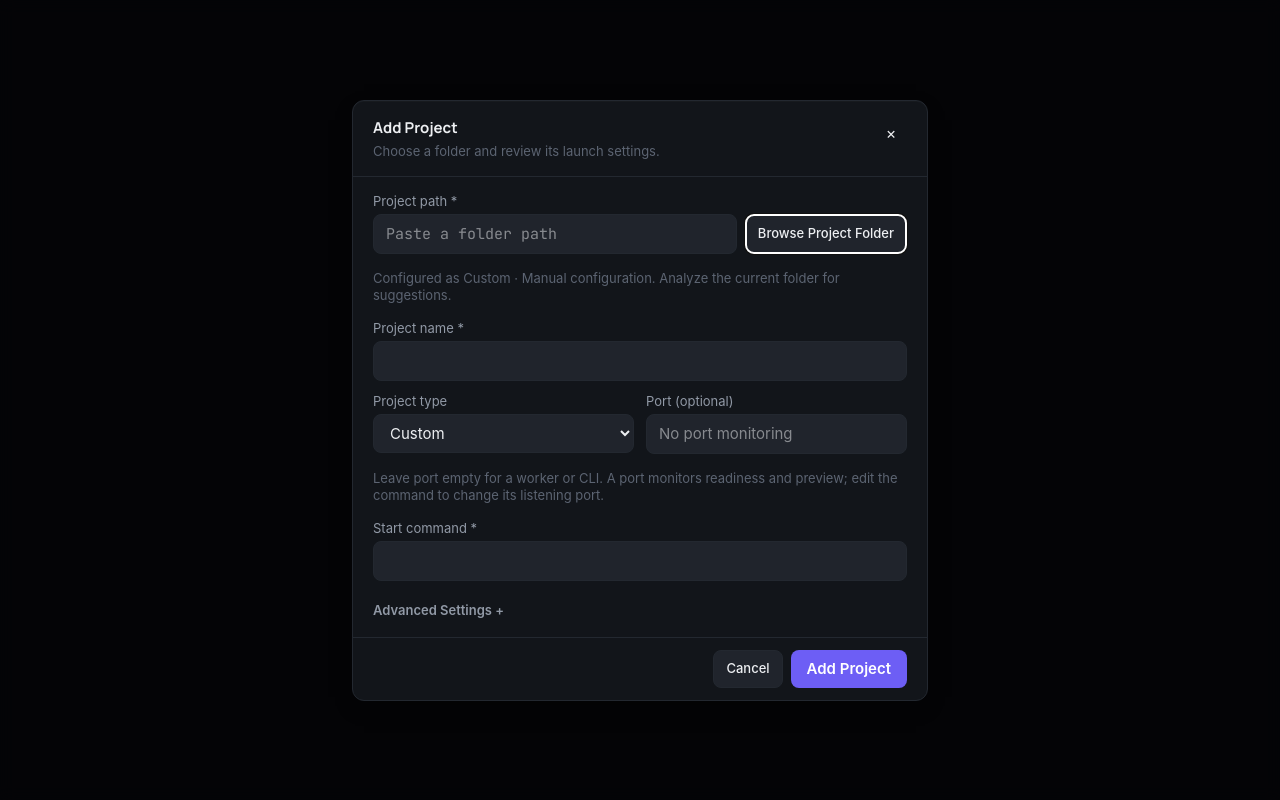
ProjectModal folder detection › Enter commits a tag as a chip and it is saved
The width and height of the screenshot is (1280, 800).
Later steps or results of the test are not shown.
Click the button "Browse Project Folder" at (826, 234), box [745,214,907,254]
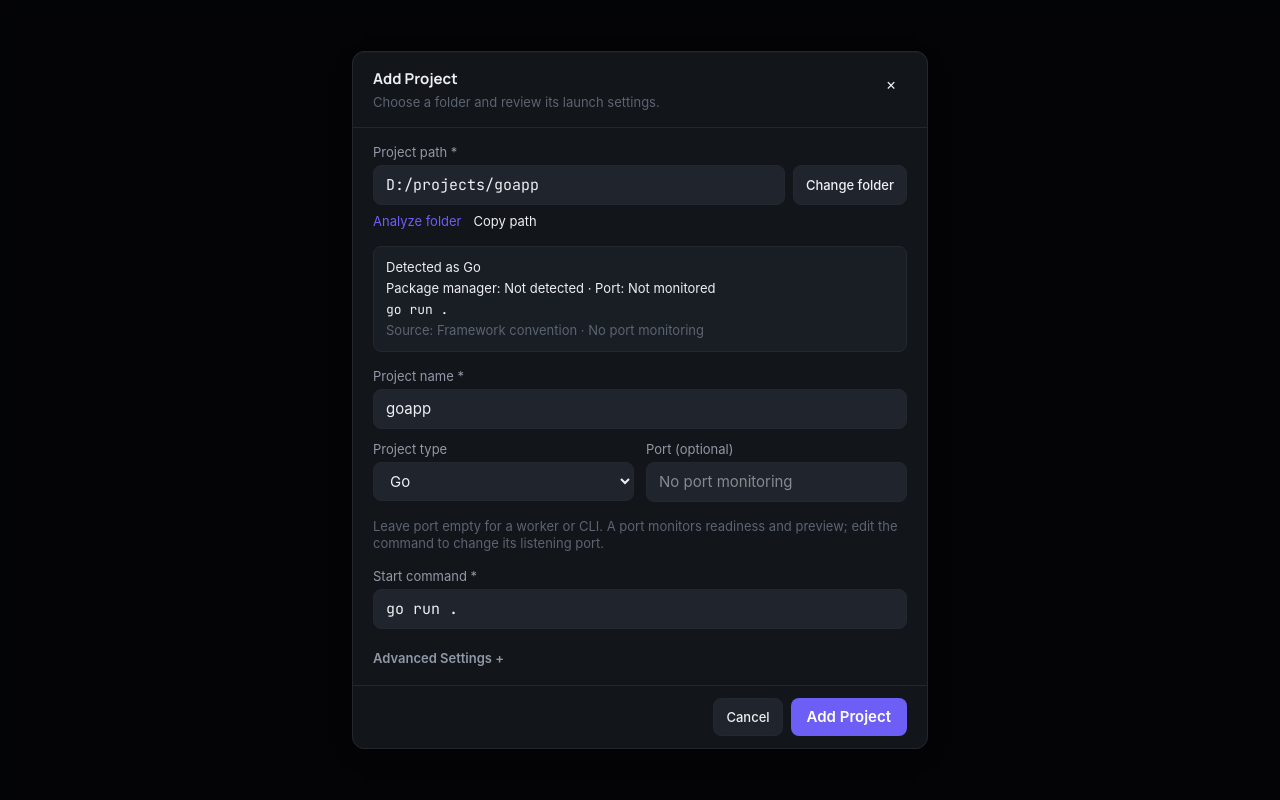
Expected: the text "Detected as Go" is shown, [386,259,481,275]
Click the button "Advanced Settings +" at (432, 658), box [373,650,907,667]
(page scrolled)
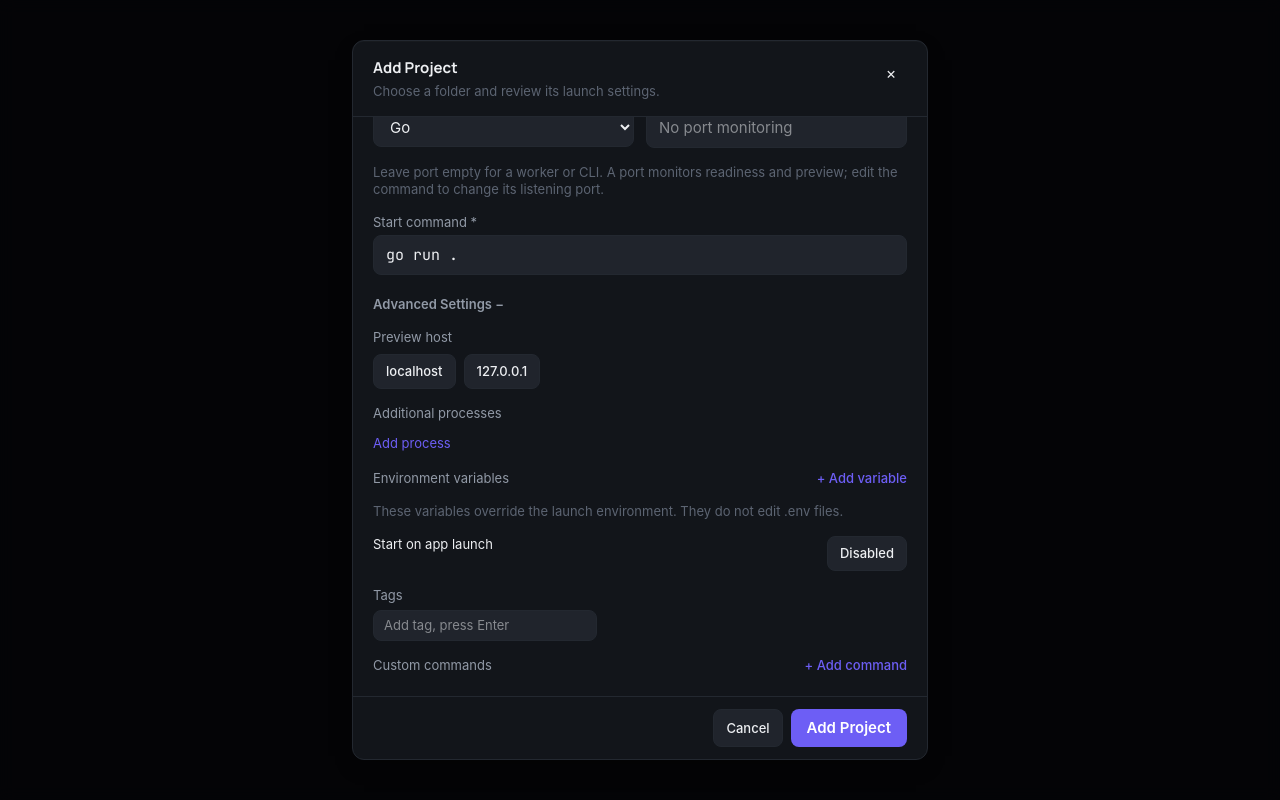
Type "api" into the field with placeholder "Add tag, press Enter" at (485, 626), box [373,610,597,641]
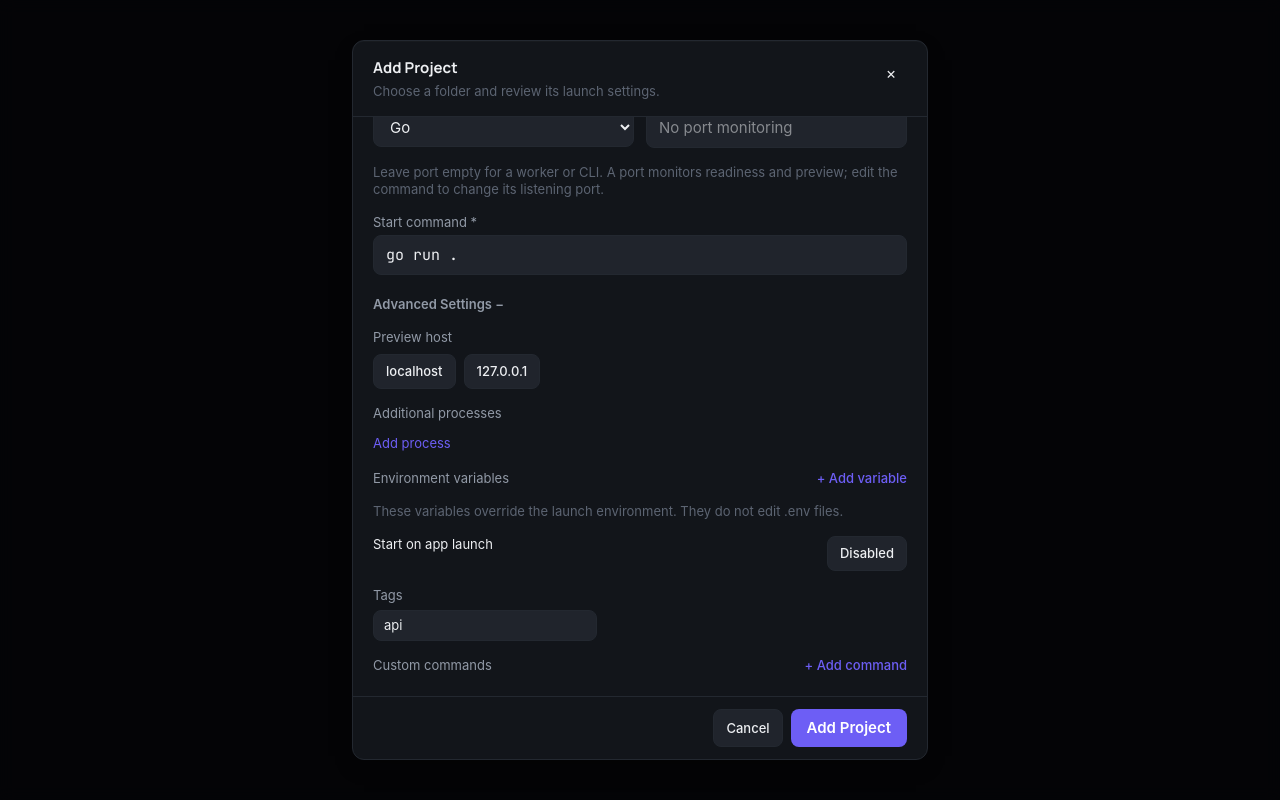
Press Enter in the field with placeholder "Add tag, press Enter", box [373,610,597,641]
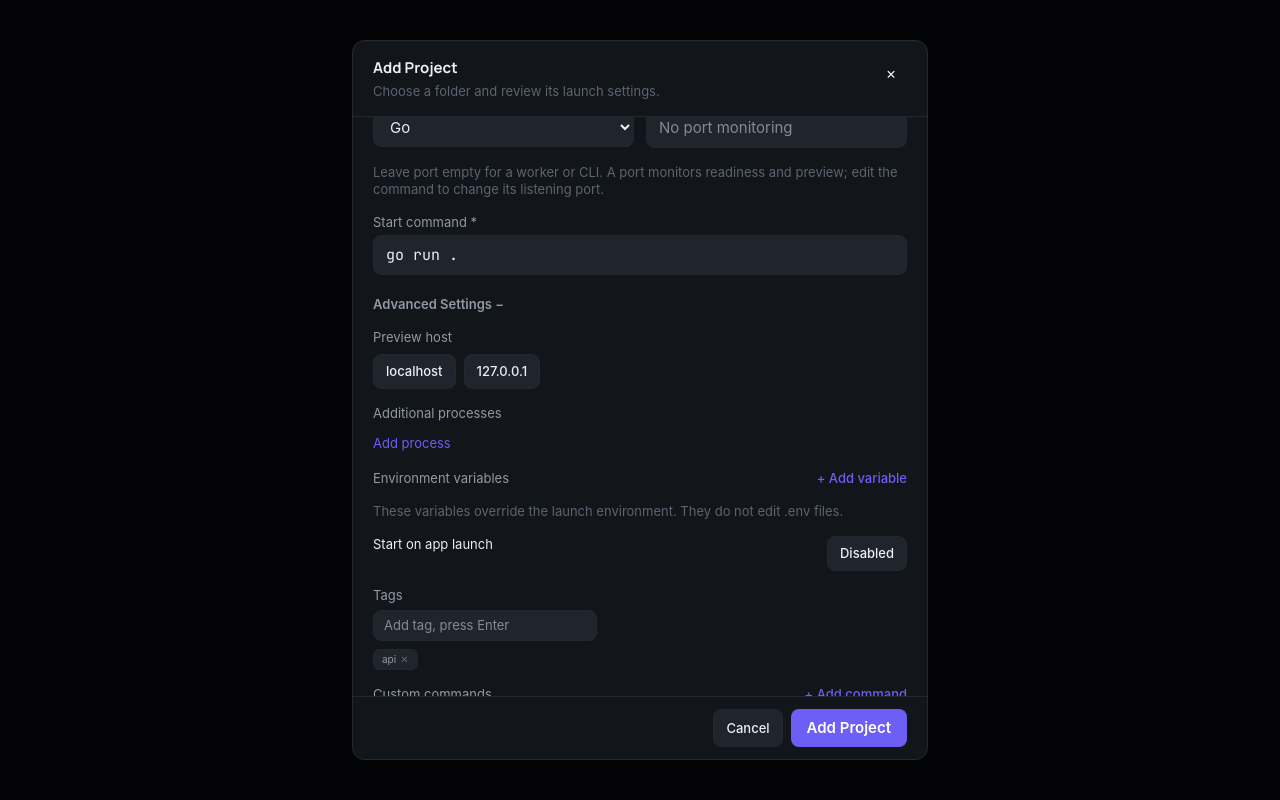
Expected: the text "api" is shown, [382,653,396,665]
